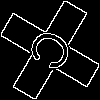C: (25, 25, 84, 80)
